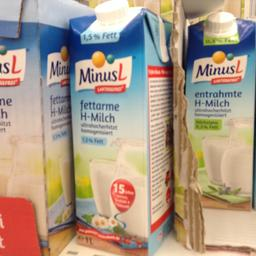milk: (63, 0, 174, 250), (184, 12, 254, 214)
